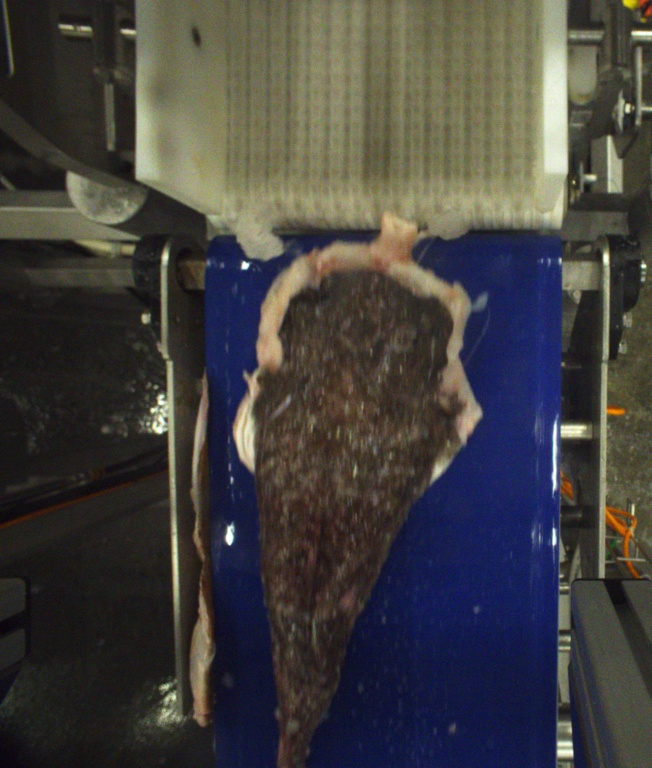ANF: (239, 215, 484, 763)
